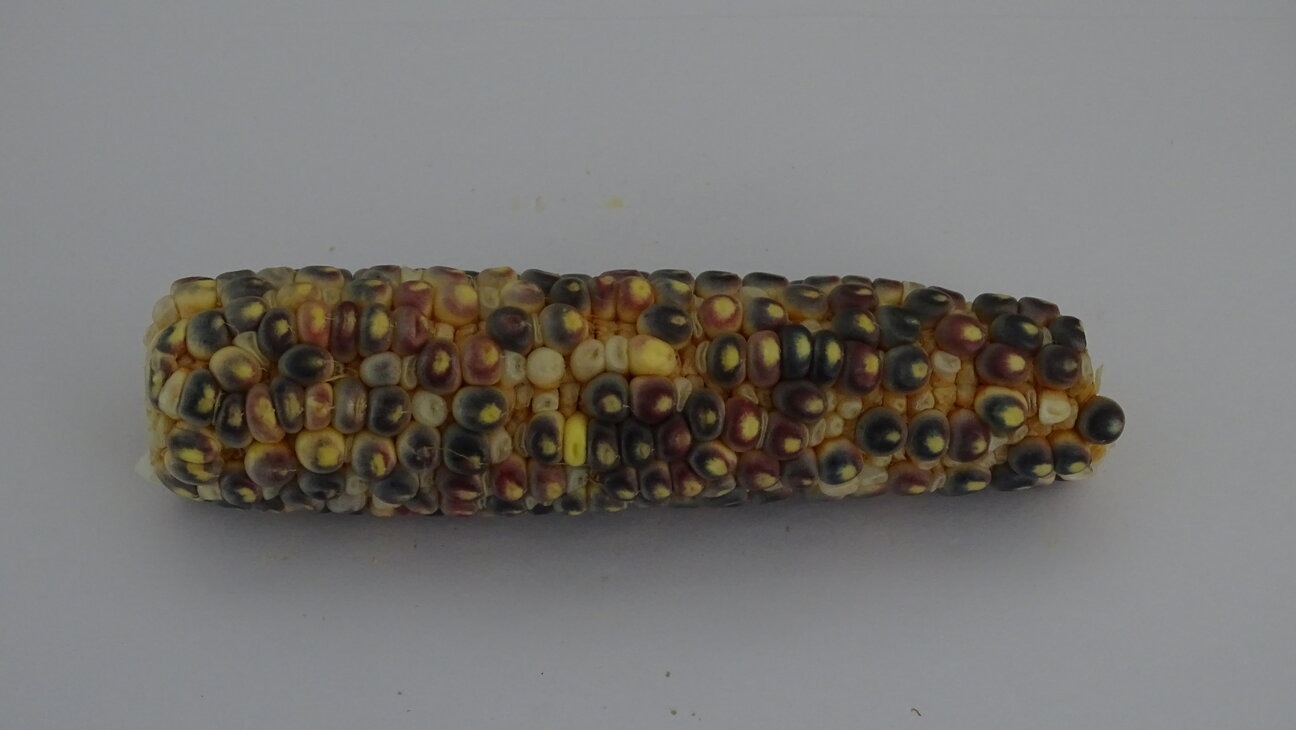ear: (134, 263, 1132, 519)
